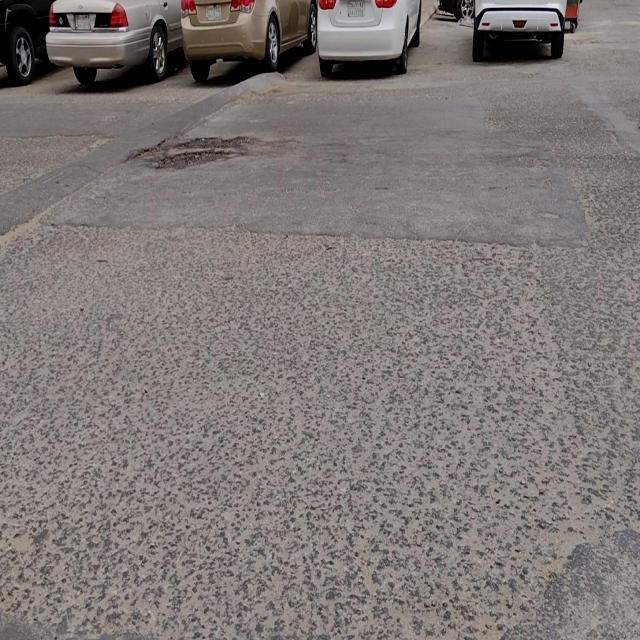Potholes: (156, 134, 256, 173)
